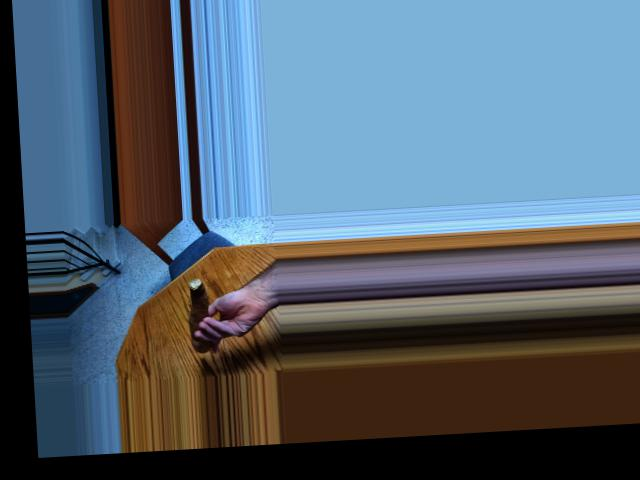sweet_potato: (180, 283, 216, 349)
